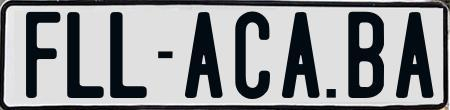A: (184, 9, 223, 100), (279, 10, 317, 101), (393, 11, 432, 99)
B: (345, 12, 382, 100)
C: (234, 10, 273, 100)
F: (25, 12, 65, 102)
L: (65, 12, 108, 99), (110, 9, 152, 98)
